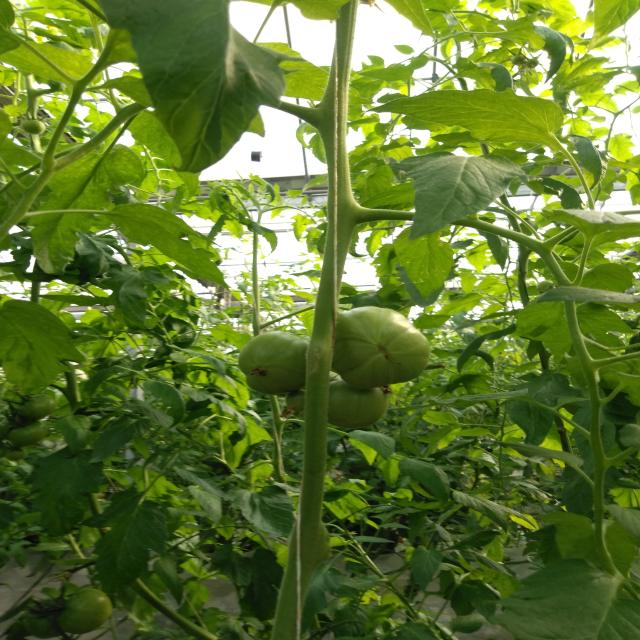n-unriped: (330, 307, 431, 389), (238, 331, 309, 396), (328, 379, 388, 428), (60, 588, 111, 634), (24, 598, 68, 640), (9, 419, 48, 447), (18, 394, 56, 421), (285, 388, 305, 410), (21, 118, 45, 136)
